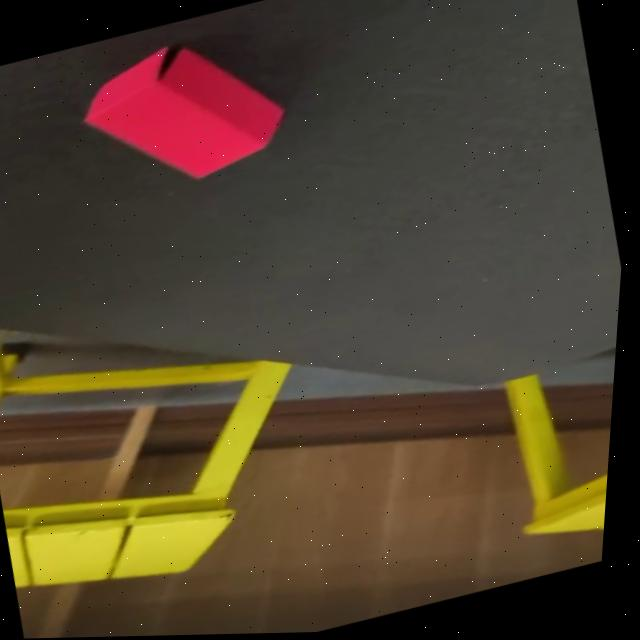red block: (63, 20, 299, 206)
